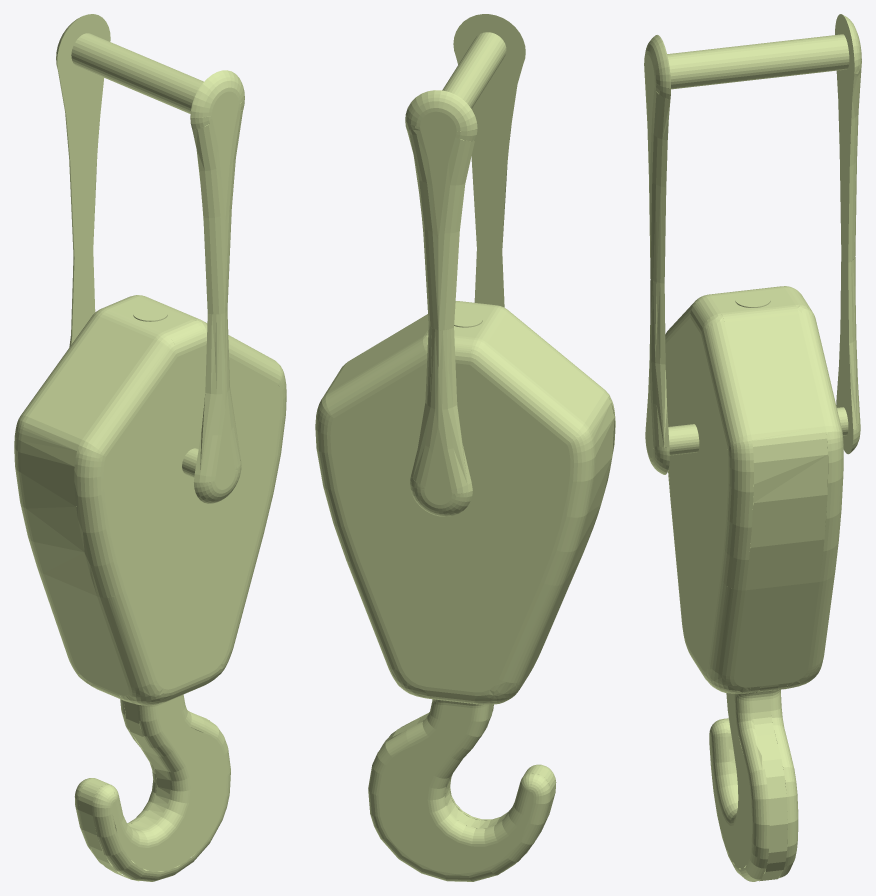
The model's file is hook1.obj.
The picture shows the model from 3 angles, left to right: view 1: azimuth 30°, elevation 25°; view 2: azimuth 150°, elevation 25°; view 3: azimuth 270°, elevation 25°; orthographic projection.
Visible parts, largest first — view 1: Imported1_DC_Shell; view 2: Imported1_DC_Shell; view 3: Imported1_DC_Shell.
Boxes of the visible parts, x1,y1,x2,y2 form: Imported1_DC_Shell: (14,14,286,881); Imported1_DC_Shell: (315,14,615,881); Imported1_DC_Shell: (644,14,861,881).
Size of the model in its own units: 65.42 by 198 by 46.59.
